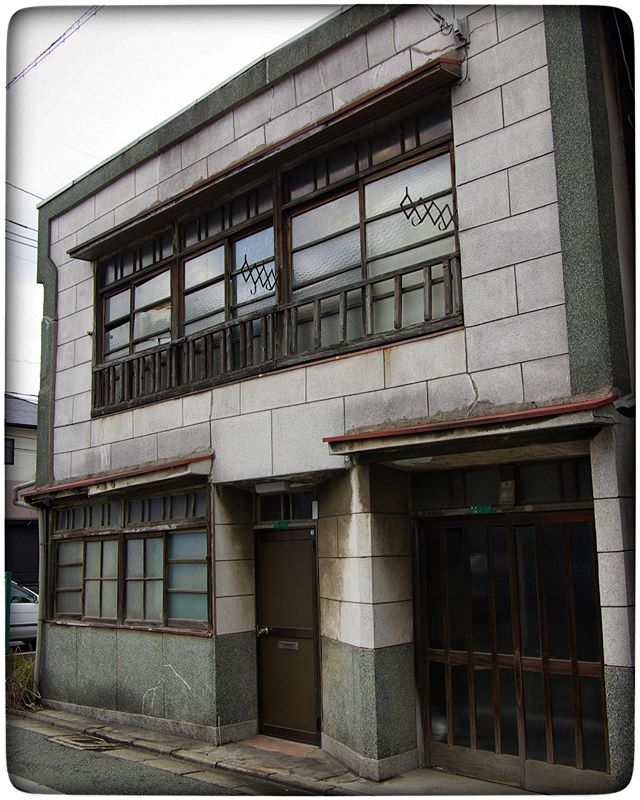building: (39, 1, 609, 744)
